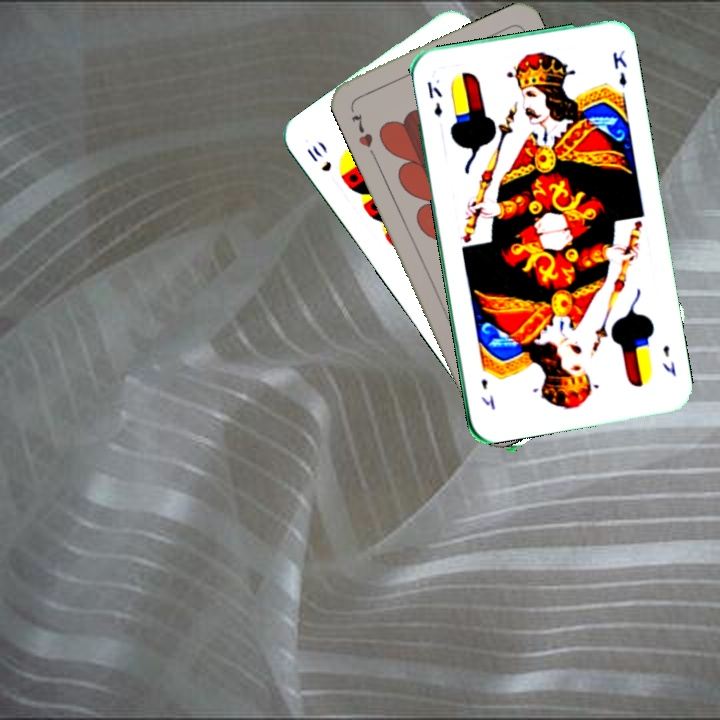EK: (423, 77, 445, 119), (658, 341, 678, 379)
H7: (347, 109, 378, 159)
S10: (302, 141, 334, 175)
